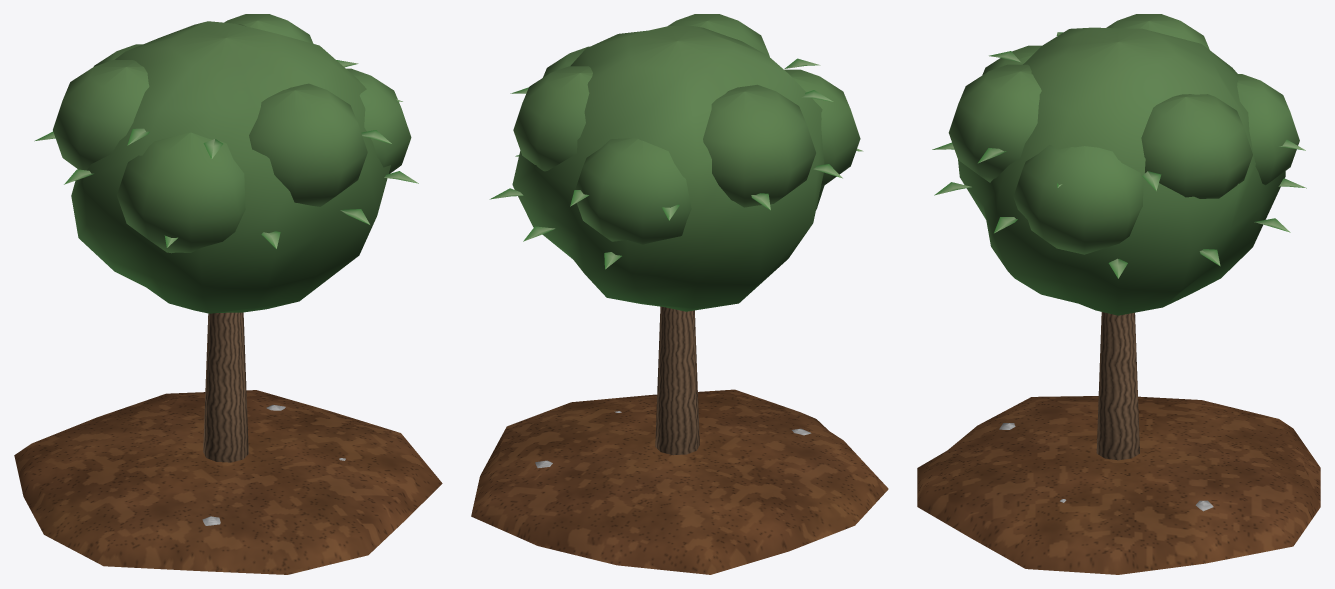
Rendered from plant-apple-1.glb.
The picture shows the model from 3 angles, left to right: view 1: azimuth 30°, elevation 25°; view 2: azimuth 150°, elevation 25°; view 3: azimuth 270°, elevation 25°; orthographic projection. The views are drawn at different scales.
Parts seen in each view (by area): view 1: plant-apple-1; view 2: plant-apple-1; view 3: plant-apple-1.
Boxes of the visible parts, x1,y1,x2,y2 form: plant-apple-1: (14, 14, 442, 574); plant-apple-1: (471, 14, 888, 574); plant-apple-1: (917, 14, 1320, 574).
Size of the model in its own units: 1 by 1.19 by 0.9749.
Materials: 5 (3 with a texture image).
